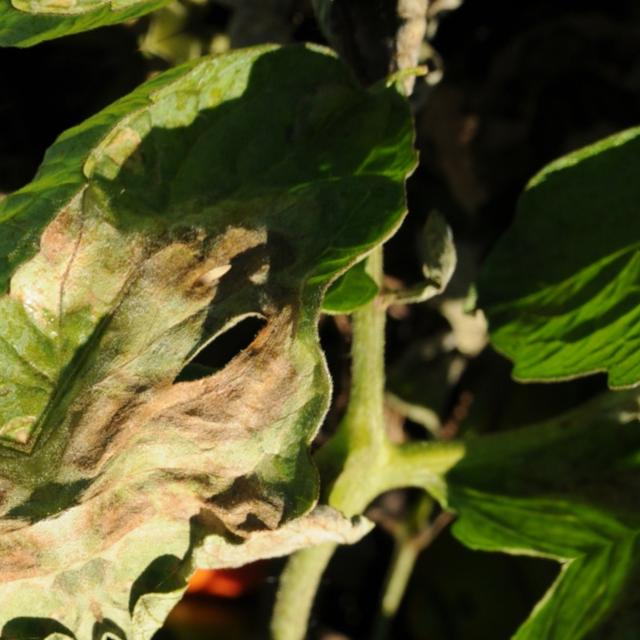Tomato leaf late blight: (0, 0, 554, 640)
